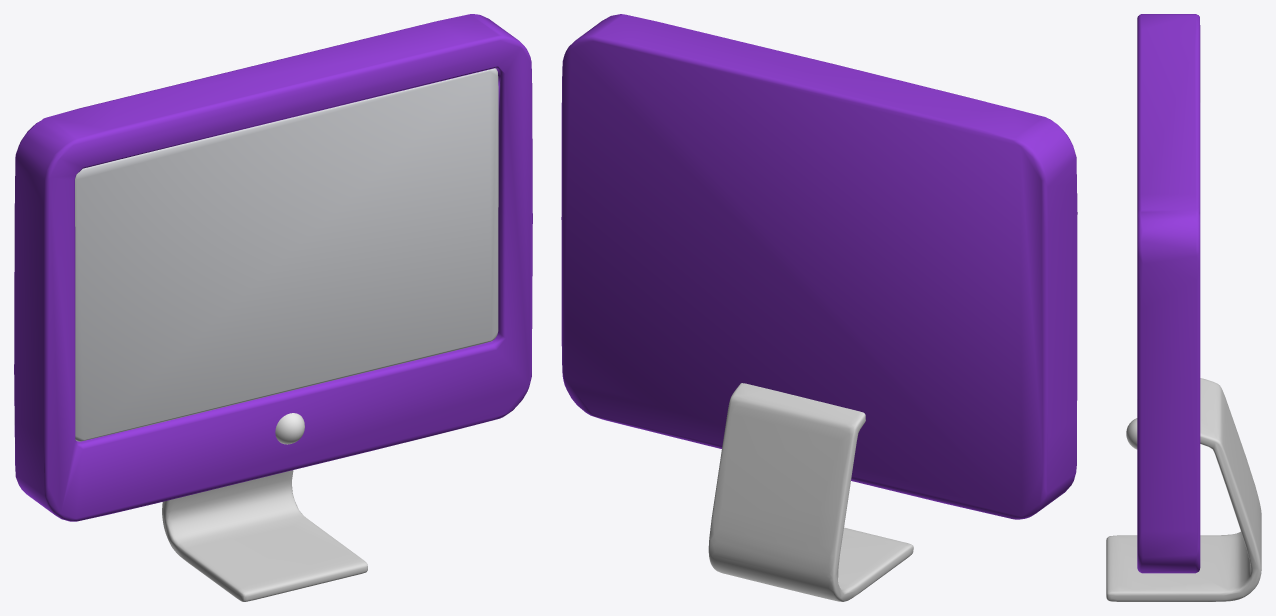
Rendered from computer.glb.
3 views of the same model, side by side, from view 1: azimuth 30°, elevation 25°; view 2: azimuth 150°, elevation 25°; view 3: azimuth 270°, elevation 25° (orthographic). The views are drawn at different scales.
Parts seen in each view (by area): view 1: Monitor; view 2: Monitor; view 3: Monitor.
Boxes of the visible parts, x1,y1,x2,y2 form: Monitor: (14, 14, 532, 601); Monitor: (561, 14, 1077, 601); Monitor: (1106, 14, 1261, 601).
Bounding box in the file's own units: 1.88 × 1.8 × 0.5489.
